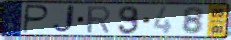4: (152, 5, 176, 36)
8: (181, 6, 205, 36)
9: (116, 4, 140, 36)
J: (50, 4, 77, 35)
P: (21, 3, 51, 35)
R: (85, 5, 112, 35)
